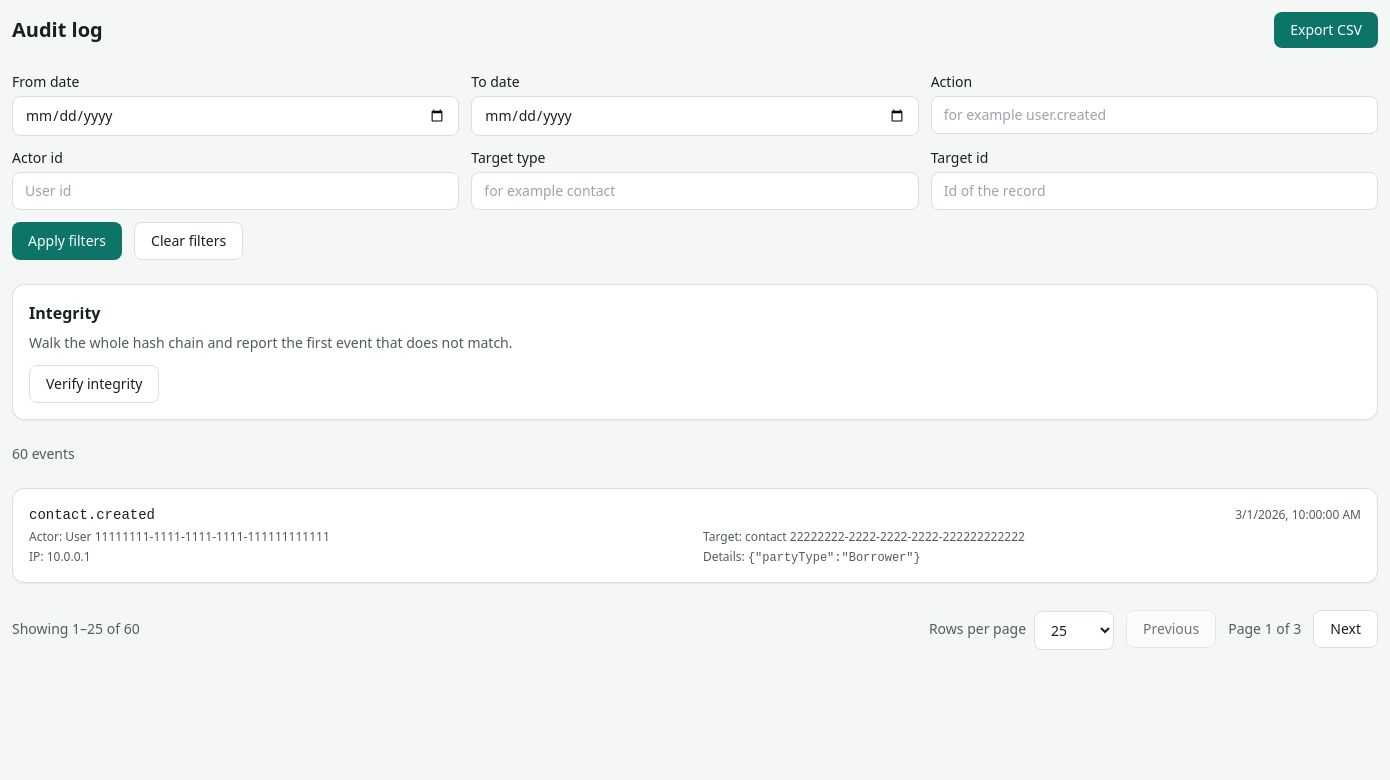
AuditPage › applies filters and goes back to the first page
This screenshot has width=1390, height=780.
Step 1. Click the button "Next" → (1346, 628), box [1313,610,1378,648]
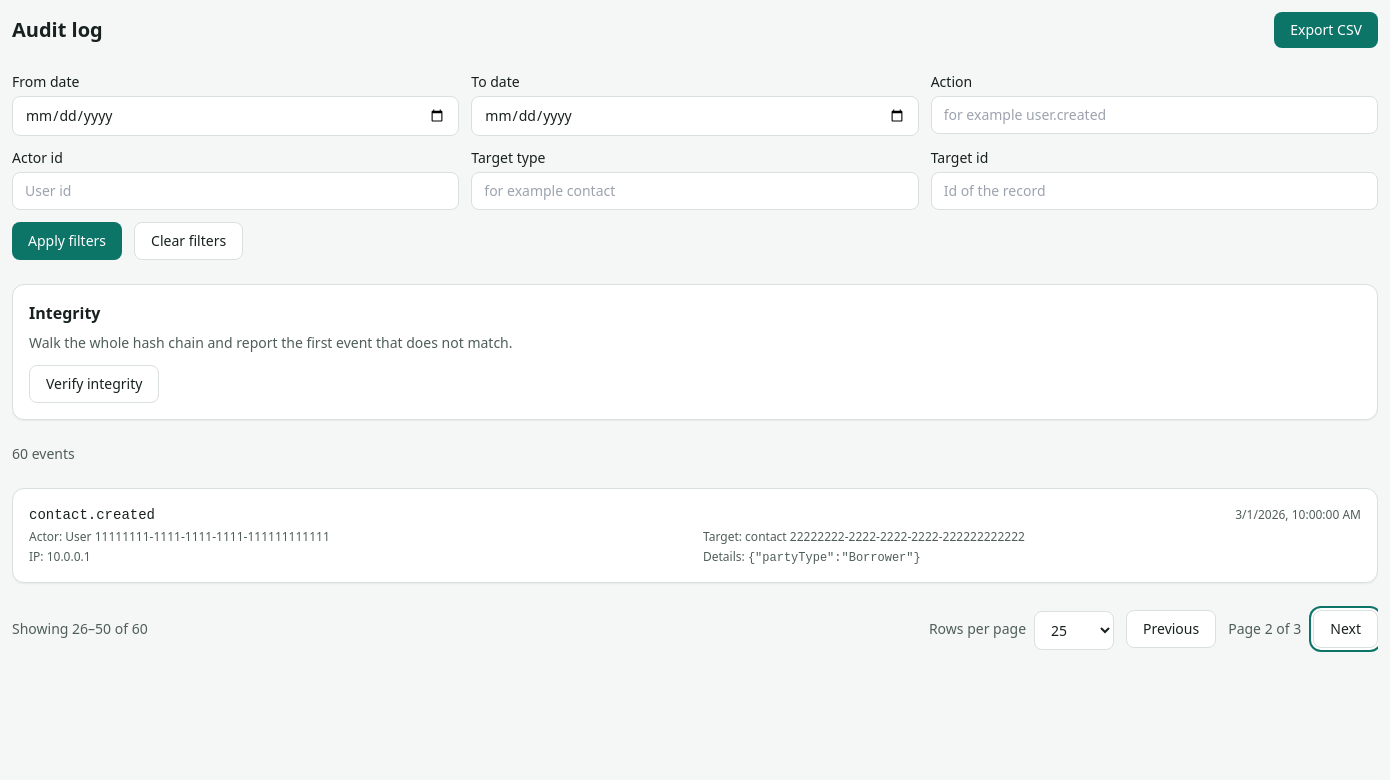
Expected: the text "Page 2 of 3" is shown, [1228,618,1301,638]
Step 2. Type "user.created" into the field labelled "Action" → (1154, 115), box [931,96,1378,134]
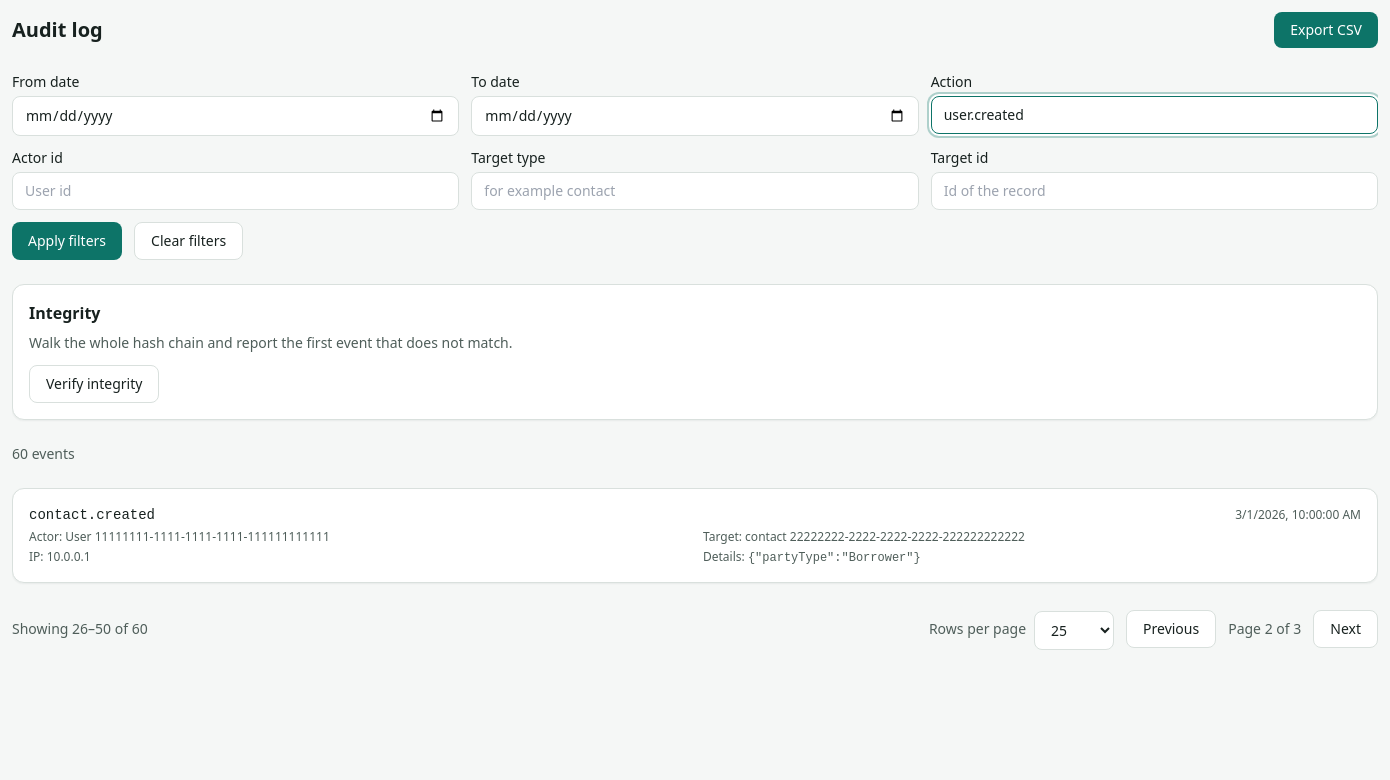
Step 3. Type "user" into the field labelled "Target type" → (695, 191), box [471,172,919,210]
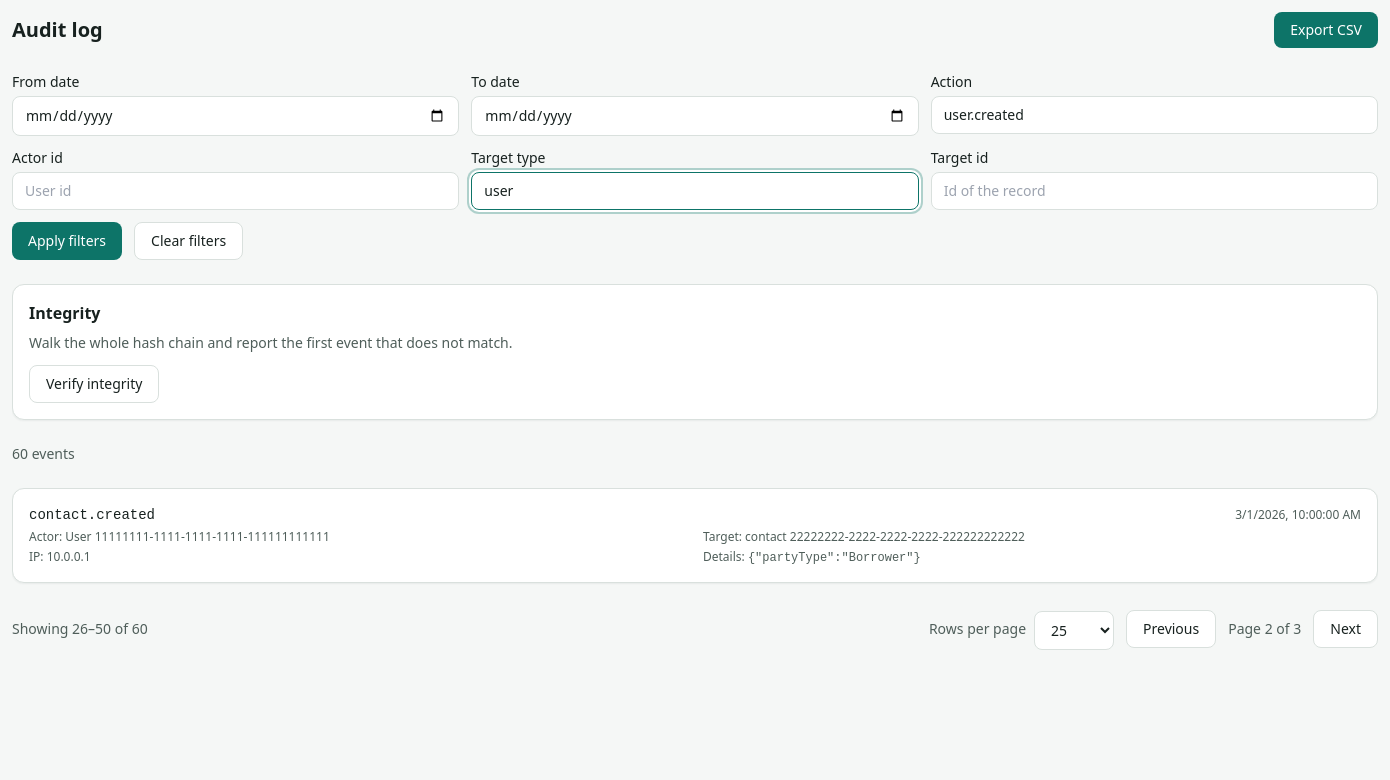
Step 4. Click the button "Apply filters" → (67, 241), box [12,222,122,260]
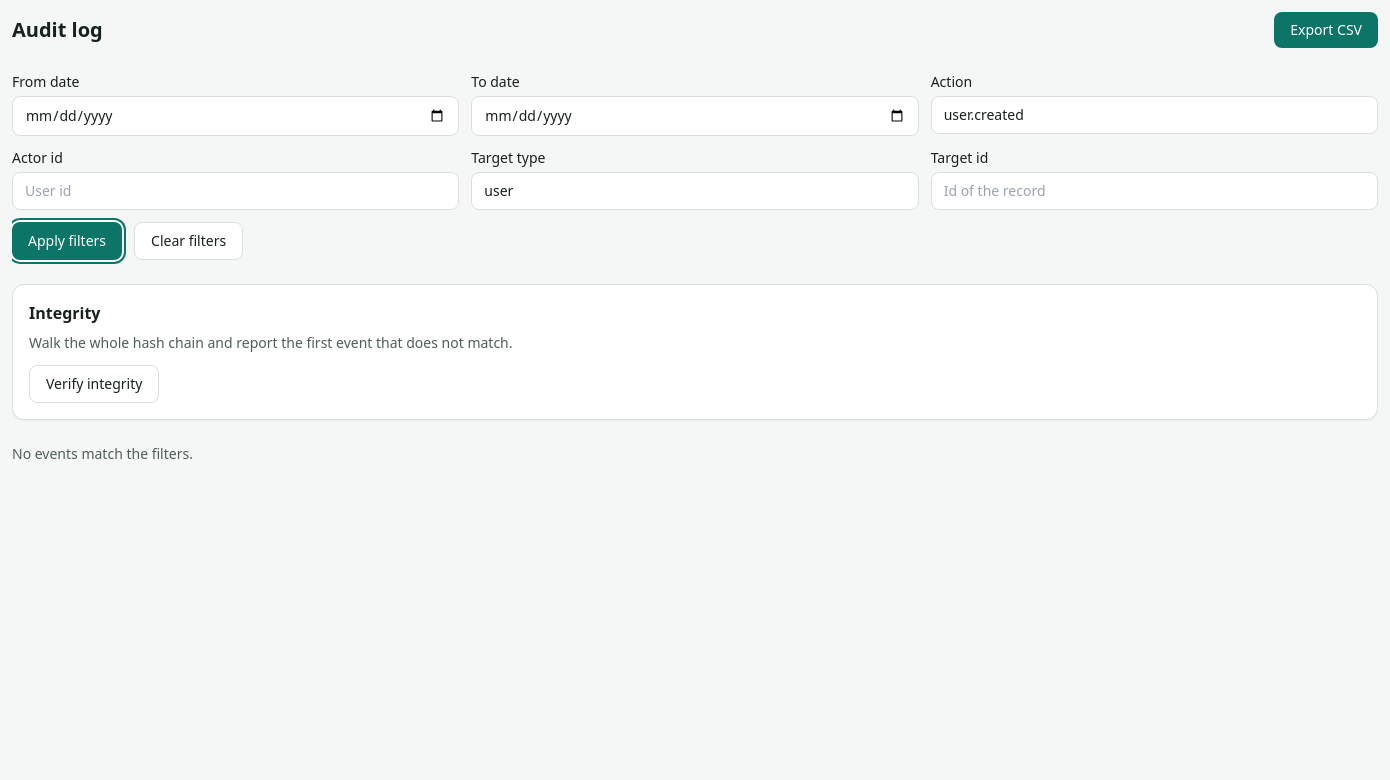
Expected: the text "No events match the filters." is shown, [12,444,193,463]
